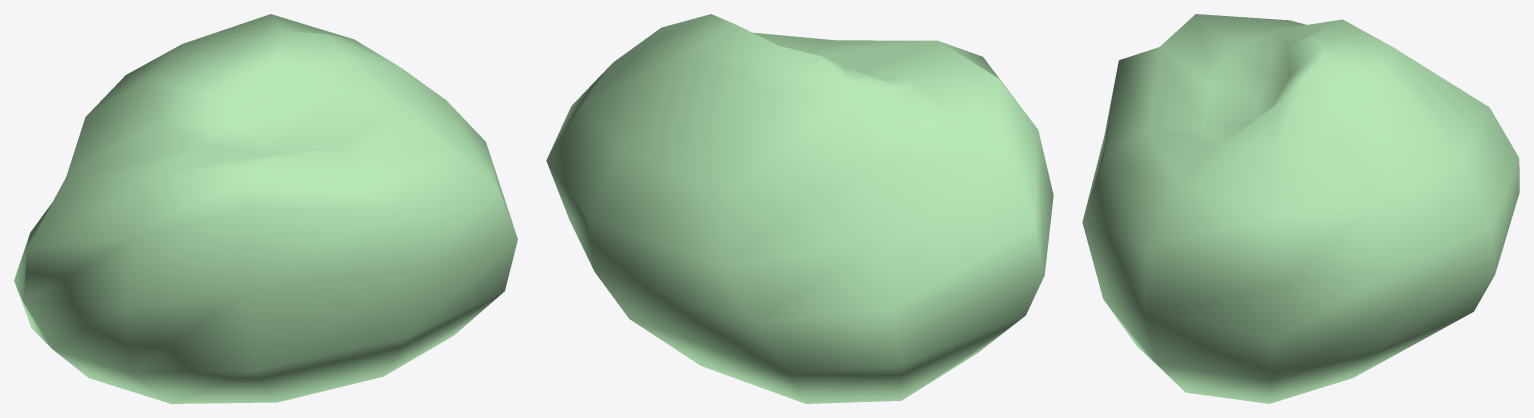
Rendered from Rock2_Medium.fbx.
The picture shows the model from 3 angles, left to right: view 1: azimuth 30°, elevation 25°; view 2: azimuth 150°, elevation 25°; view 3: azimuth 270°, elevation 25°; orthographic projection. The views are drawn at different scales.
Visible parts, largest first — view 1: Rock2_Medium; view 2: Rock2_Medium; view 3: Rock2_Medium.
Part boxes in pixels (x1,y1,x2,y2): Rock2_Medium: (14, 14, 517, 403); Rock2_Medium: (546, 14, 1053, 403); Rock2_Medium: (1082, 14, 1519, 403).
Bounding box in the file's own units: 1435 × 850 × 1157.
